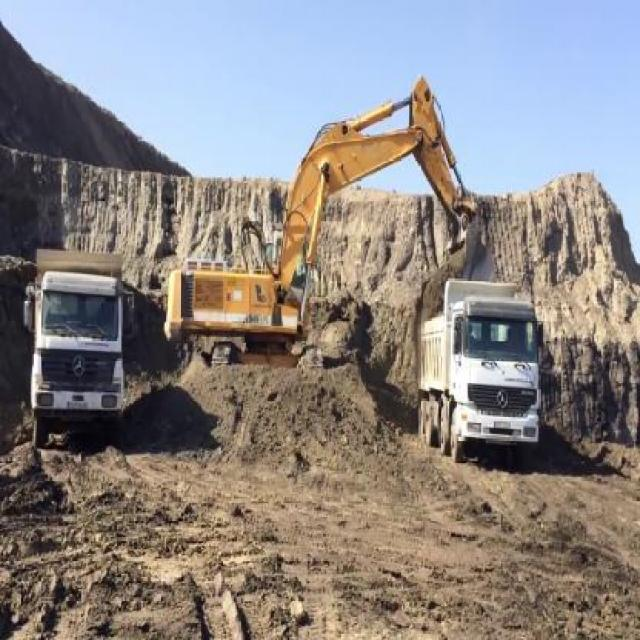Dump Truck: (414, 269, 541, 465), (20, 236, 132, 444)
Excavator: (162, 77, 482, 383)
